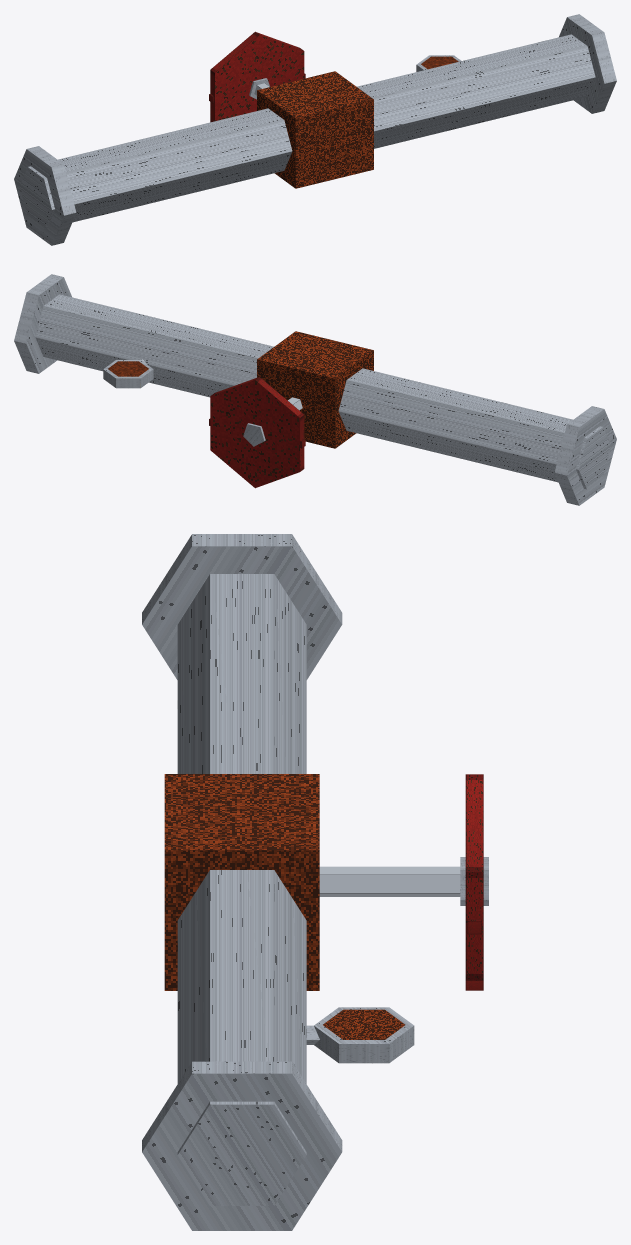
File: pipes_derelict_decay.glb
3 views of the same model, one above another, from view 1: azimuth 30°, elevation 25°; view 2: azimuth 150°, elevation 25°; view 3: azimuth 270°, elevation 25° (orthographic). The views are drawn at different scales.
Visible parts, largest first — view 1: pipes_derelict_decay; view 2: pipes_derelict_decay; view 3: pipes_derelict_decay.
Boxes of the visible parts, x1,y1,x2,y2 form: pipes_derelict_decay: (14, 14, 616, 245); pipes_derelict_decay: (14, 274, 616, 505); pipes_derelict_decay: (142, 534, 488, 1230).
Size of the model in its own units: 1.8 by 0.333 by 0.4835.
Materials: 6 (6 with a texture image).
